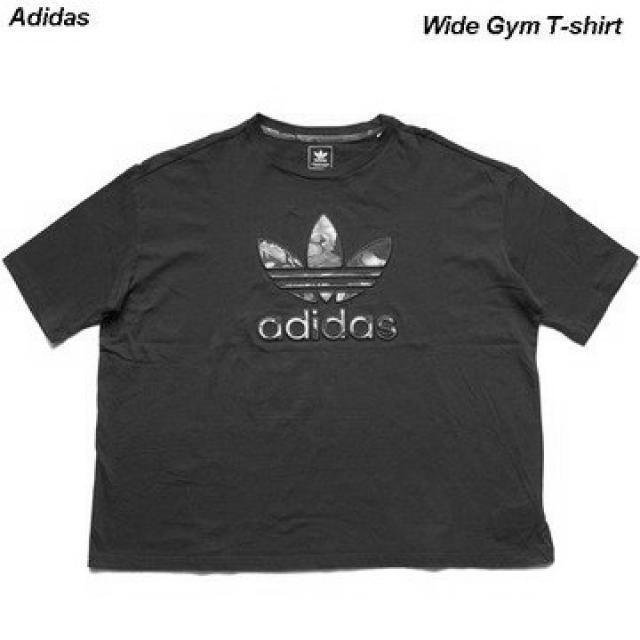Adidas: (246, 211, 397, 312), (306, 141, 332, 171)
